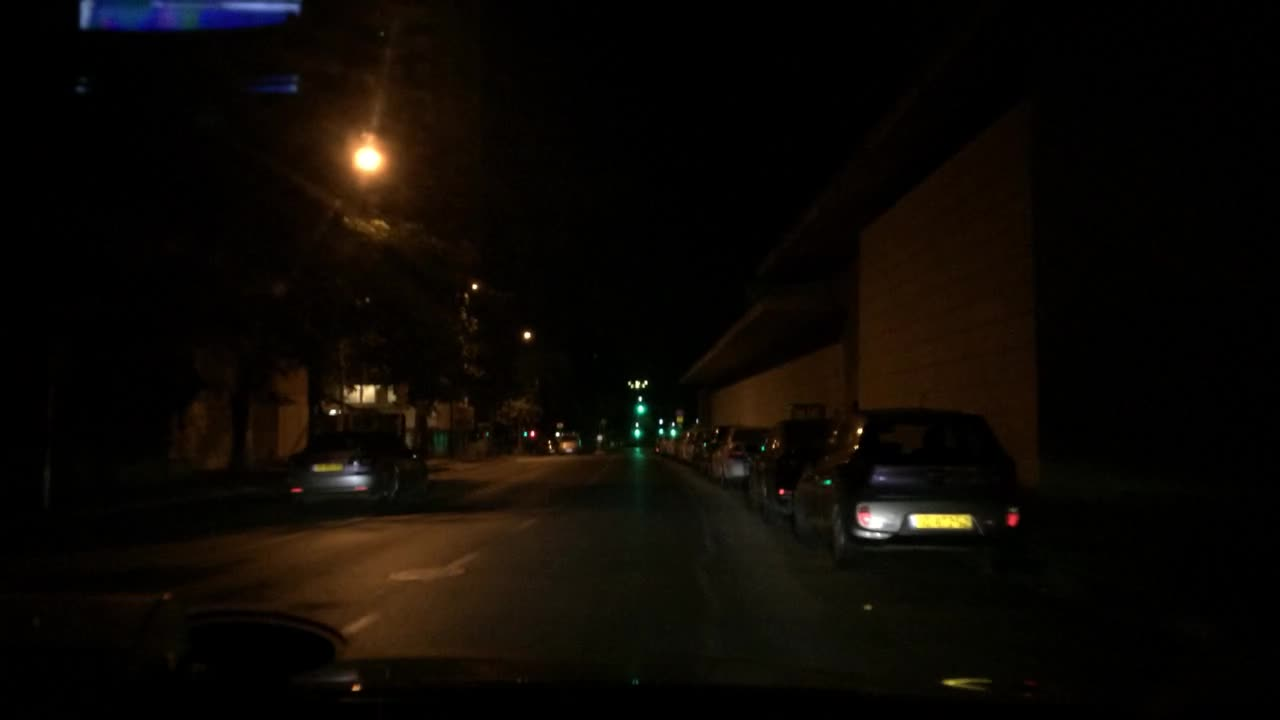car: (789, 403, 1032, 563), (283, 430, 430, 516), (746, 415, 840, 528), (708, 422, 773, 484), (692, 423, 724, 474), (673, 423, 702, 464), (548, 428, 584, 455), (658, 437, 675, 455)
traffic light: (633, 398, 644, 415), (654, 423, 665, 439), (631, 428, 643, 442), (668, 425, 678, 440)
